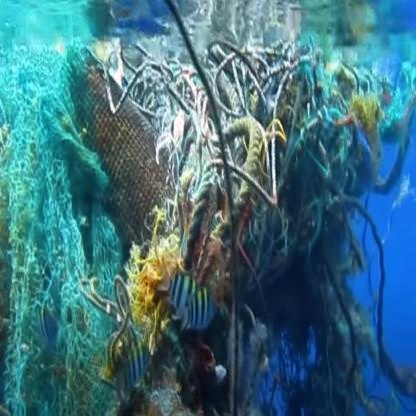net: (21, 67, 127, 364)
